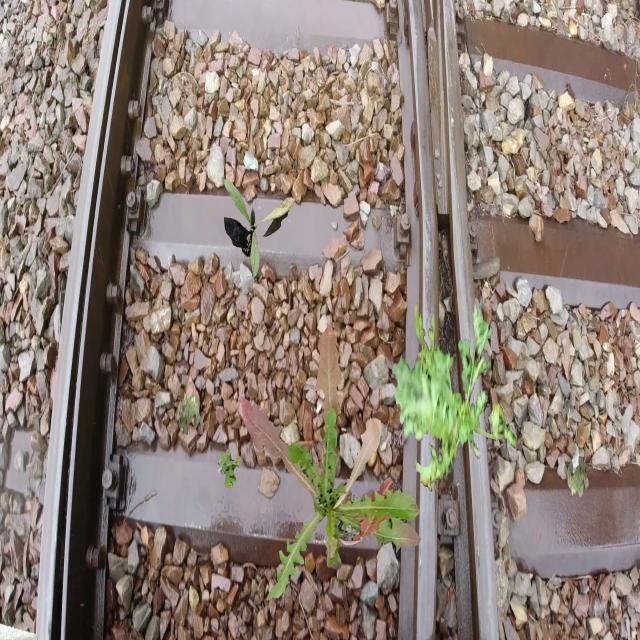Plant: (241, 323, 421, 601), (392, 298, 517, 494), (224, 178, 296, 278), (178, 392, 204, 434), (564, 456, 590, 498), (218, 449, 242, 490)
